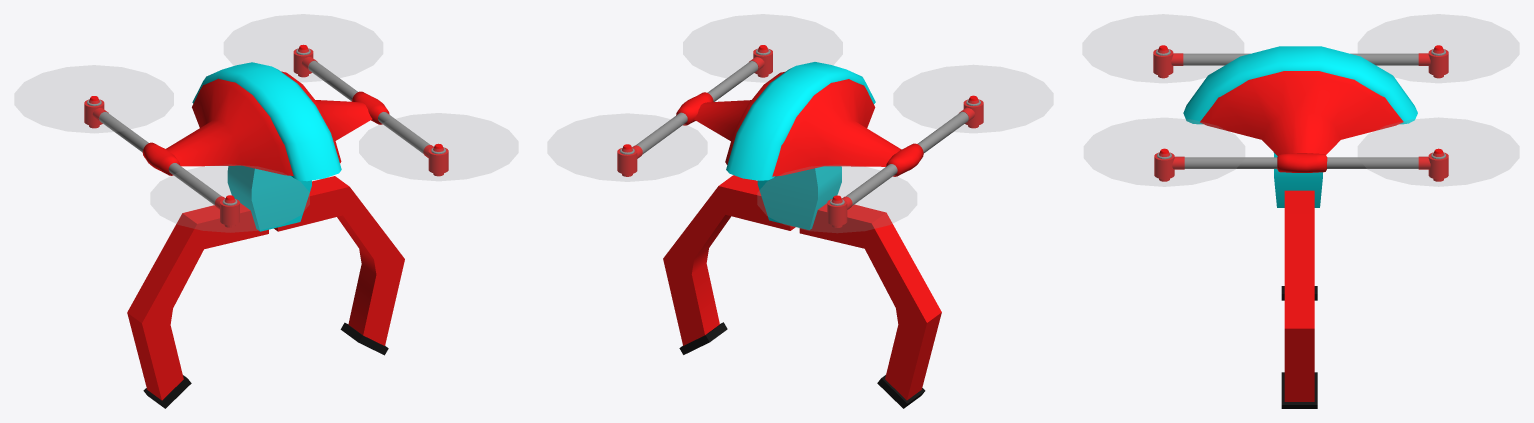
Rendered from Drone_v1_with_grabber.FBX.
3 renders of one model, left to right at view 1: azimuth 30°, elevation 25°; view 2: azimuth 150°, elevation 25°; view 3: azimuth 270°, elevation 25°, orthographic.
Visible parts, largest first — view 1: Box022; view 2: Box022; view 3: Box022.
Boxes of the visible parts, x1,y1,x2,y2 form: Box022: (14,14,518,408); Box022: (547,14,1053,408); Box022: (1082,14,1519,408).
Bounding box in the file's own units: 87.57 × 71.16 × 93.51.
